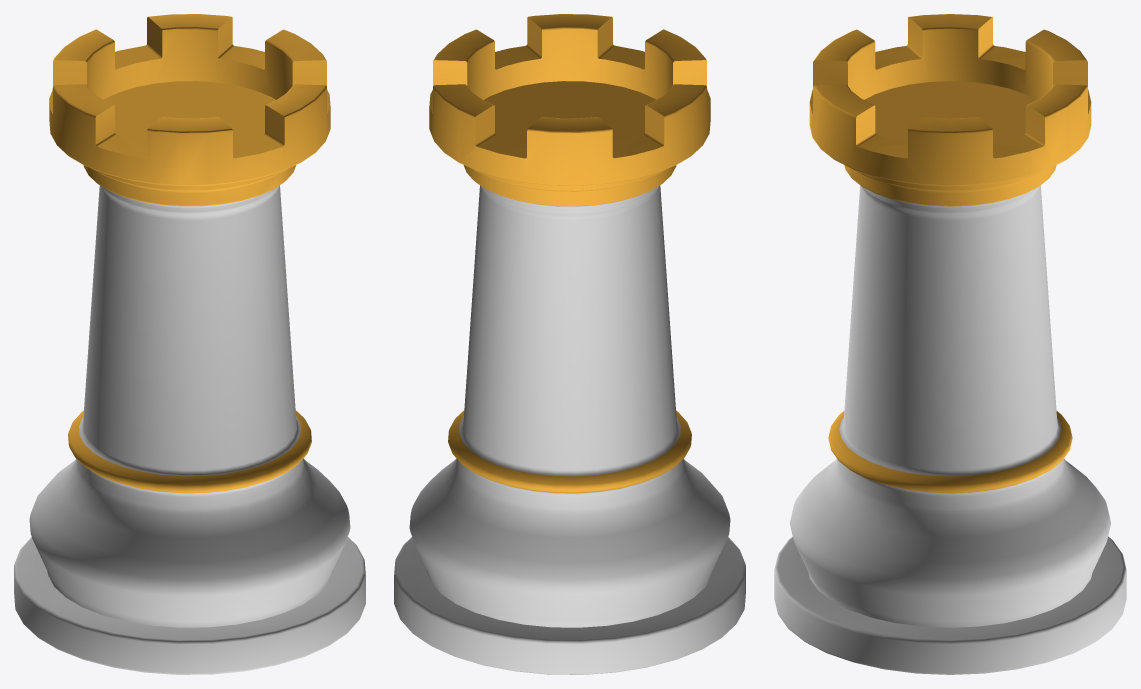
File: gercek6_r_w.glb
3 views of the same model, side by side, from view 1: azimuth 30°, elevation 25°; view 2: azimuth 150°, elevation 25°; view 3: azimuth 270°, elevation 25° (orthographic).
Parts seen in each view (by area): view 1: r_w_0, r_w_1; view 2: r_w_0, r_w_1; view 3: r_w_0, r_w_1.
Part boxes in pixels (bbox=[...]): r_w_0: bbox=[14, 185, 365, 674]; r_w_1: bbox=[49, 14, 330, 493]; r_w_0: bbox=[394, 185, 745, 674]; r_w_1: bbox=[429, 14, 710, 493]; r_w_0: bbox=[774, 185, 1126, 674]; r_w_1: bbox=[809, 14, 1091, 493].
Size of the model in its own units: 0.5433 by 0.9 by 0.5433.
